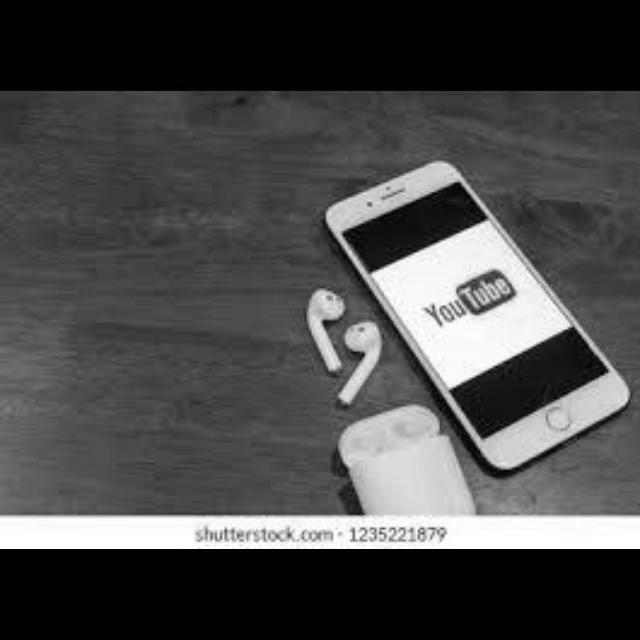fake: (265, 153, 640, 464)
